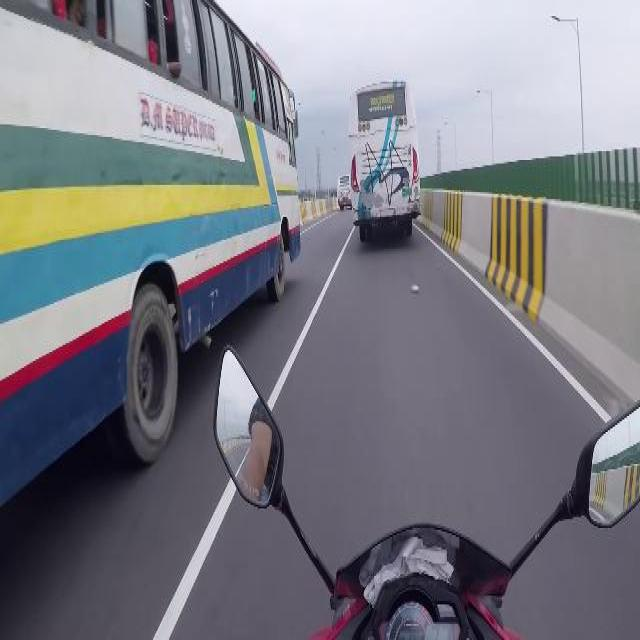10: (211, 340, 639, 634)
Truck: (4, 1, 302, 468), (348, 78, 420, 238), (335, 172, 351, 208)
